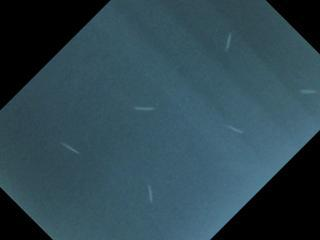scratch: (55, 137, 86, 157), (222, 118, 249, 139), (140, 179, 160, 206), (218, 28, 240, 52), (292, 83, 320, 99), (129, 100, 157, 115)
